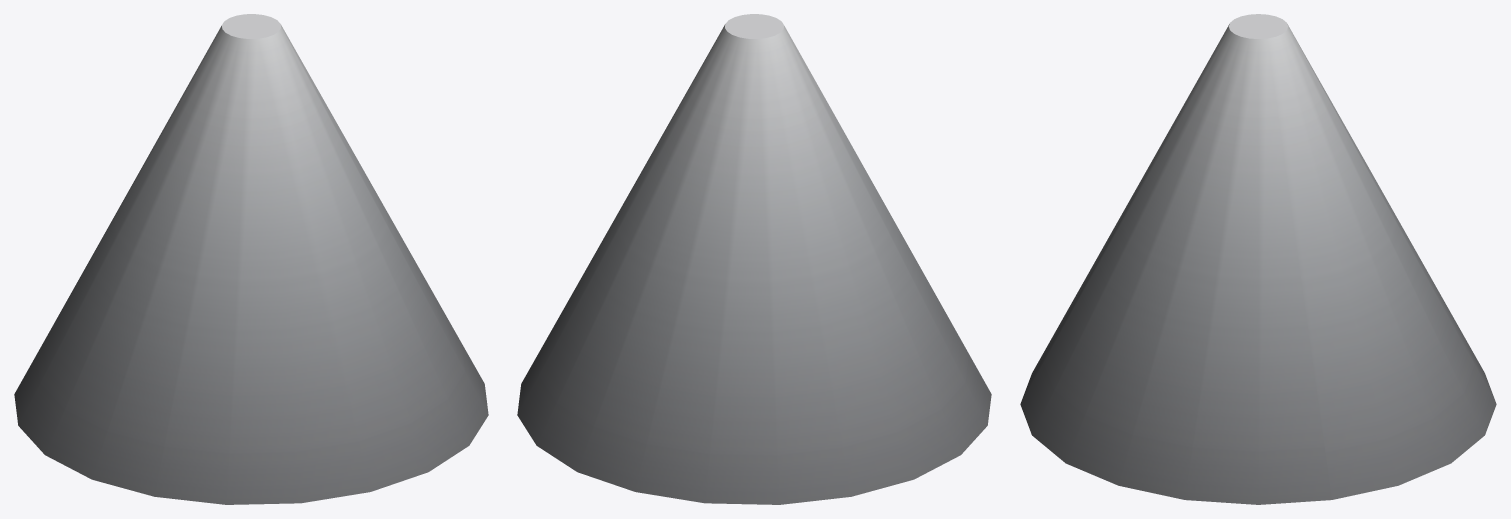
File: light1.fbx
The picture shows the model from 3 angles, left to right: view 1: azimuth 30°, elevation 25°; view 2: azimuth 150°, elevation 25°; view 3: azimuth 270°, elevation 25°; orthographic projection.
Visible parts, largest first — view 1: pCone1; view 2: pCone1; view 3: pCone1.
Part boxes in pixels (left/top/right/bottom): pCone1: left=14, top=14, right=488, bottom=504; pCone1: left=517, top=14, right=991, bottom=504; pCone1: left=1020, top=14, right=1496, bottom=504.
Size of the model in its own units: 2 by 1.75 by 2.
Materials: 1 (1 with a texture image).
